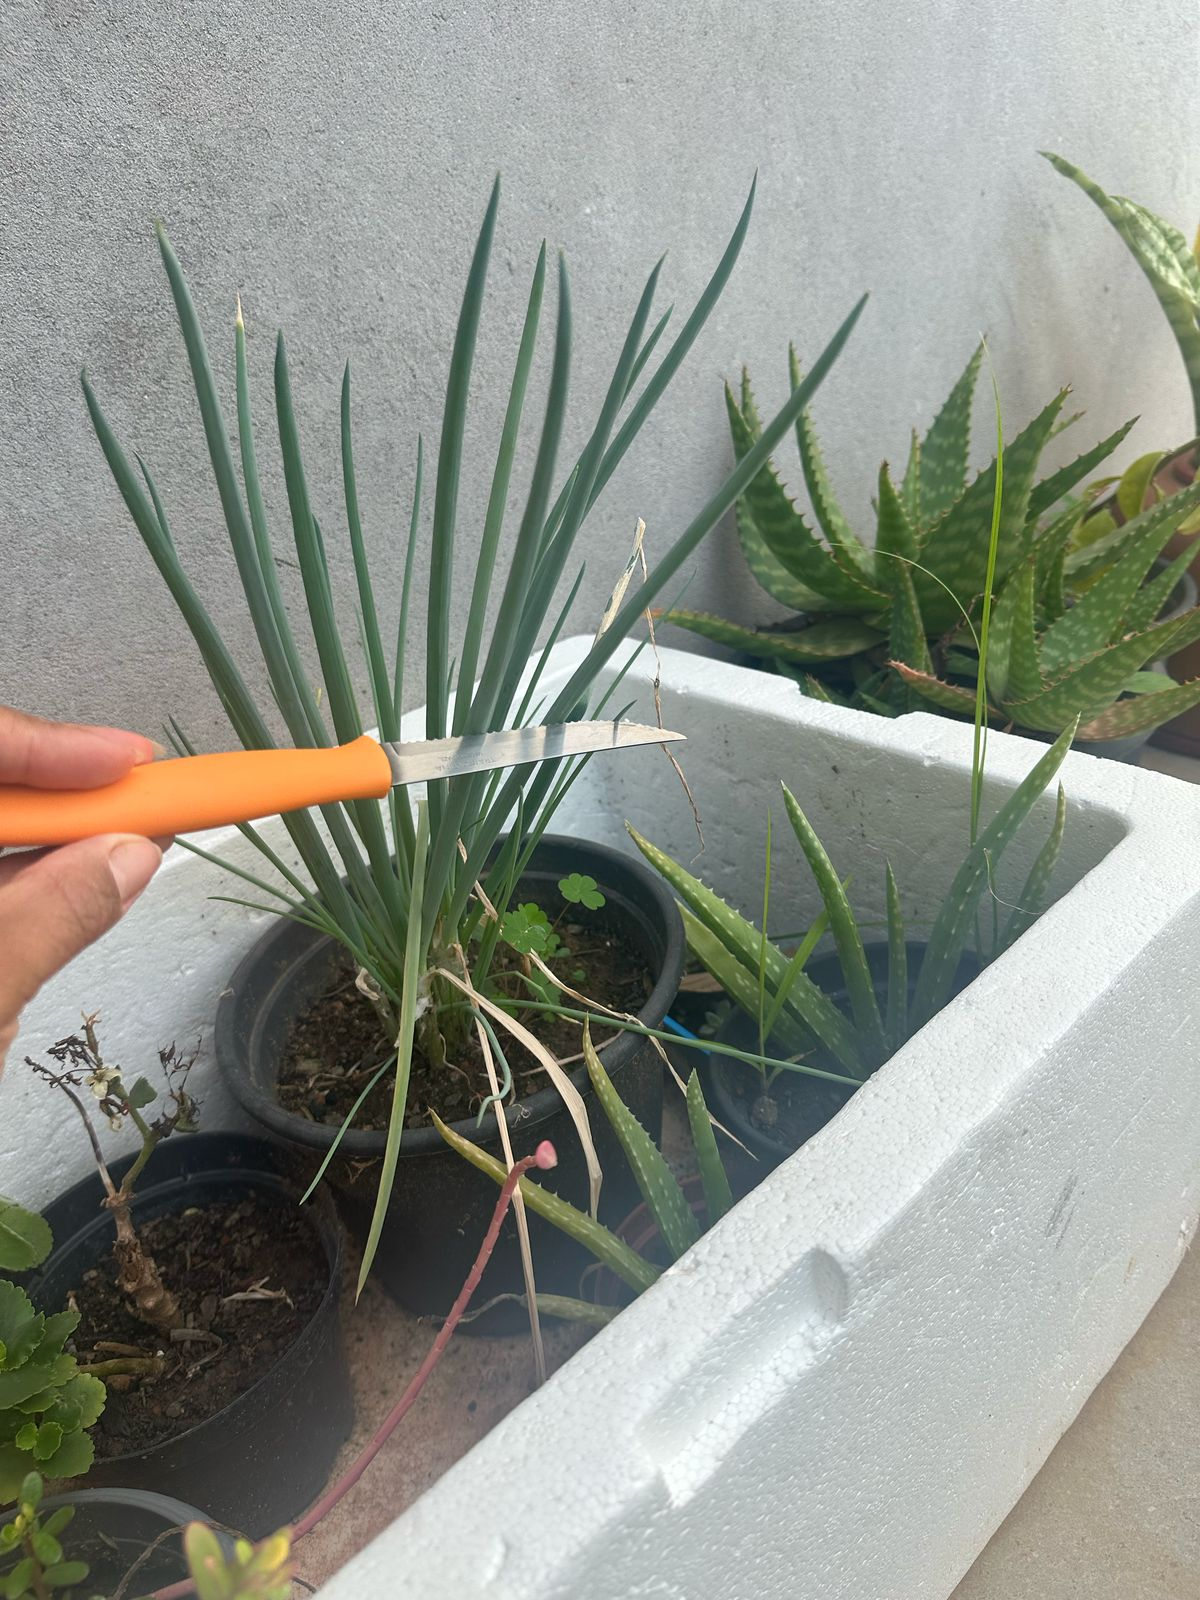faca: (161, 721, 687, 830)
